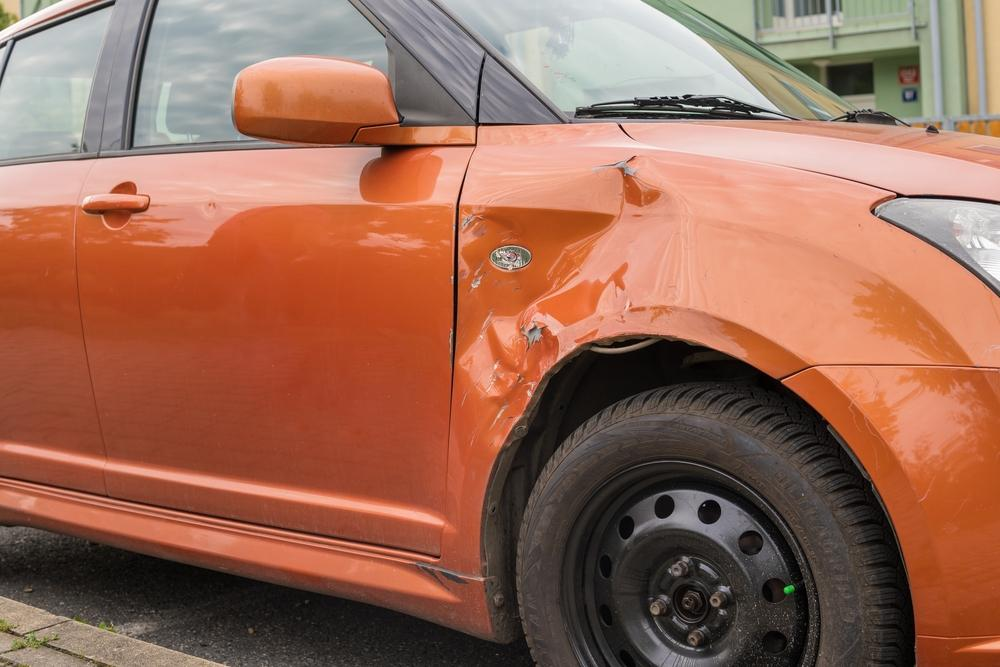dent: (457, 162, 693, 447)
